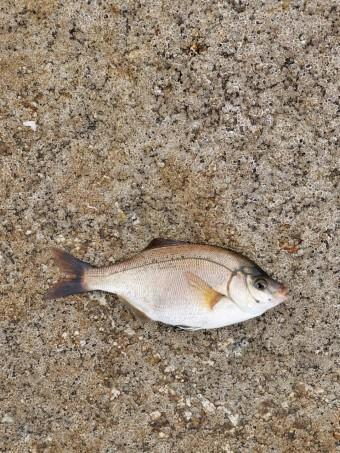fish: (44, 240, 289, 332)
